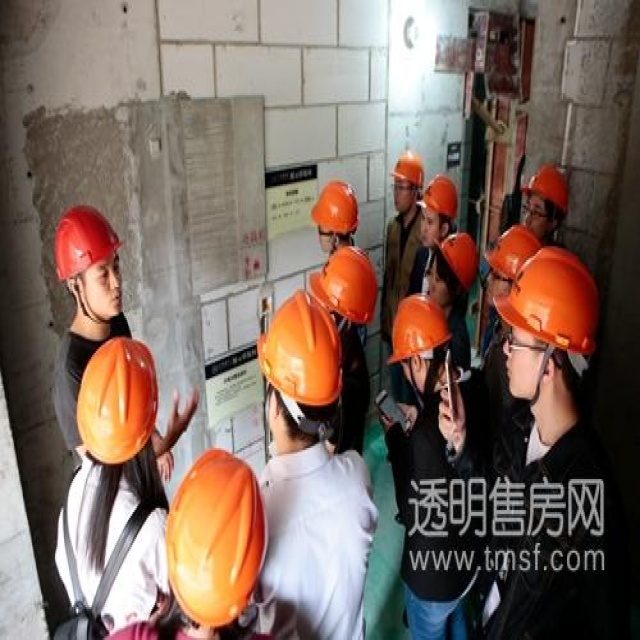Helmet: (158, 436, 275, 635), (486, 244, 613, 410), (243, 280, 347, 449), (68, 327, 169, 501), (47, 195, 134, 319), (380, 289, 457, 411), (306, 240, 378, 361), (479, 219, 547, 307), (305, 174, 365, 263), (513, 162, 573, 244), (424, 229, 479, 308), (386, 150, 430, 230), (418, 172, 460, 250)
